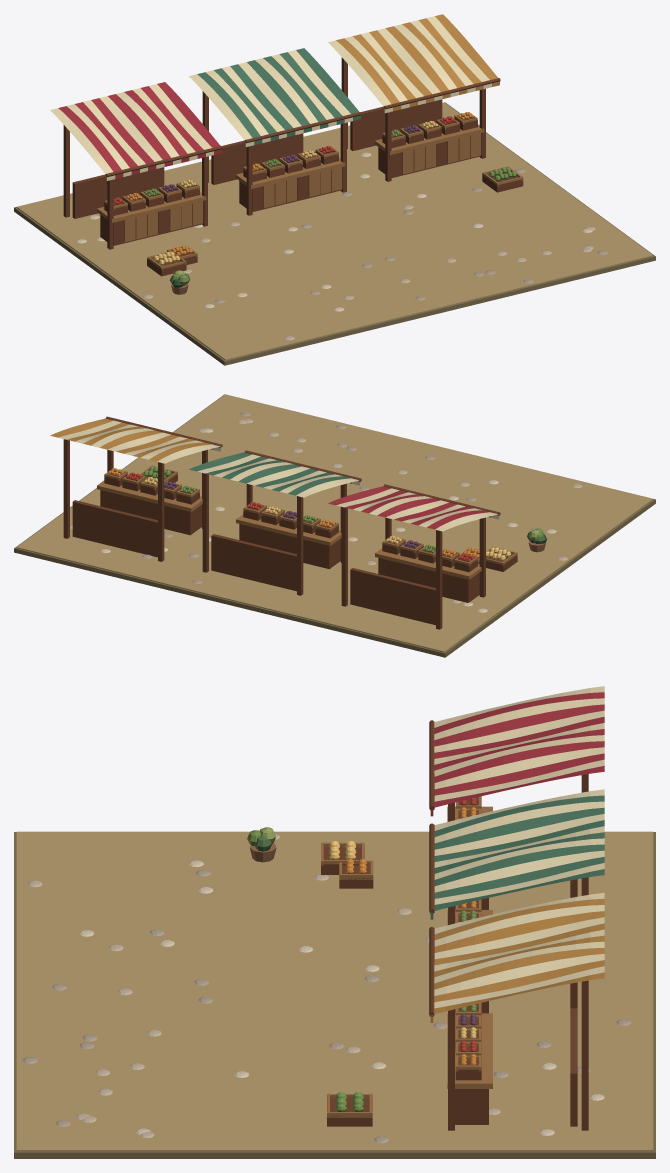
File: market-nivel-1.glb
3 views of the same model, one above another, from view 1: azimuth 30°, elevation 25°; view 2: azimuth 150°, elevation 25°; view 3: azimuth 270°, elevation 25° (orthographic). The views are drawn at different scales.
Parts seen in each view (by area): view 1: Mercado 01 #b3986a, Mercado 01 #70432c, Mercado 01 #eadbb2, Mercado 01 #9f7145, Mercado 01 #a63843, Mercado 01 #4d7860, Mercado 01 #bb8846, Mercado 01 #7f704e, Mercado 01 #d3c3a9, Mercado 01 #c1af99, Mercado 01 #ae9d8b, Mercado 01 #e8bf71 (+1 smaller); view 2: Mercado 01 #b3986a, Mercado 01 #70432c, Mercado 01 #eadbb2, Mercado 01 #9f7145, Mercado 01 #7f704e, Mercado 01 #a63843, Mercado 01 #4d7860, Mercado 01 #bb8846, Mercado 01 #c1af99, Mercado 01 #e8bf71, Mercado 01 #d3c3a9, Mercado 01 #ae9d8b (+1 smaller); view 3: Mercado 01 #b3986a, Mercado 01 #eadbb2, Mercado 01 #70432c, Mercado 01 #a63843, Mercado 01 #4d7860, Mercado 01 #bb8846, Mercado 01 #7f704e, Mercado 01 #9f7145, Mercado 01 #ae9d8b, Mercado 01 #c1af99, Mercado 01 #d3c3a9.
Part boxes in pixels (bbox=[...]): Mercado 01 #b3986a: bbox=[16, 102, 653, 360]; Mercado 01 #70432c: bbox=[63, 57, 523, 276]; Mercado 01 #eadbb2: bbox=[50, 16, 491, 180]; Mercado 01 #9f7145: bbox=[97, 112, 523, 270]; Mercado 01 #a63843: bbox=[58, 82, 222, 178]; Mercado 01 #4d7860: bbox=[197, 48, 361, 144]; Mercado 01 #bb8846: bbox=[336, 14, 499, 111]; Mercado 01 #7f704e: bbox=[14, 102, 655, 365]; Mercado 01 #d3c3a9: bbox=[76, 152, 592, 311]; Mercado 01 #c1af99: bbox=[143, 205, 595, 340]; Mercado 01 #ae9d8b: bbox=[215, 168, 607, 303]; Mercado 01 #e8bf71: bbox=[153, 120, 437, 265]; Mercado 01 #b3986a: bbox=[16, 394, 653, 652]; Mercado 01 #70432c: bbox=[63, 416, 517, 629]; Mercado 01 #eadbb2: bbox=[58, 420, 499, 531]; Mercado 01 #9f7145: bbox=[97, 465, 517, 579]; Mercado 01 #7f704e: bbox=[14, 394, 655, 657]; Mercado 01 #a63843: bbox=[328, 486, 490, 529]; Mercado 01 #4d7860: bbox=[189, 452, 351, 495]; Mercado 01 #bb8846: bbox=[50, 418, 213, 461]; Mercado 01 #c1af99: bbox=[197, 419, 582, 603]; Mercado 01 #e8bf71: bbox=[144, 477, 511, 560]; Mercado 01 #d3c3a9: bbox=[70, 428, 556, 612]; Mercado 01 #ae9d8b: bbox=[142, 412, 539, 583]; Mercado 01 #b3986a: bbox=[16, 831, 653, 1151]; Mercado 01 #eadbb2: bbox=[434, 686, 604, 1008]; Mercado 01 #70432c: bbox=[321, 720, 588, 1130]; Mercado 01 #a63843: bbox=[430, 692, 604, 816]; Mercado 01 #4d7860: bbox=[430, 795, 604, 919]; Mercado 01 #bb8846: bbox=[430, 898, 604, 1022]; Mercado 01 #7f704e: bbox=[14, 832, 655, 1158]; Mercado 01 #9f7145: bbox=[321, 796, 492, 1117]; Mercado 01 #ae9d8b: bbox=[22, 870, 630, 1143]; Mercado 01 #c1af99: bbox=[27, 833, 500, 1138]; Mercado 01 #d3c3a9: bbox=[79, 860, 604, 1135].
Size of the model in its own units: 12.79 by 3.09 by 10.82.
